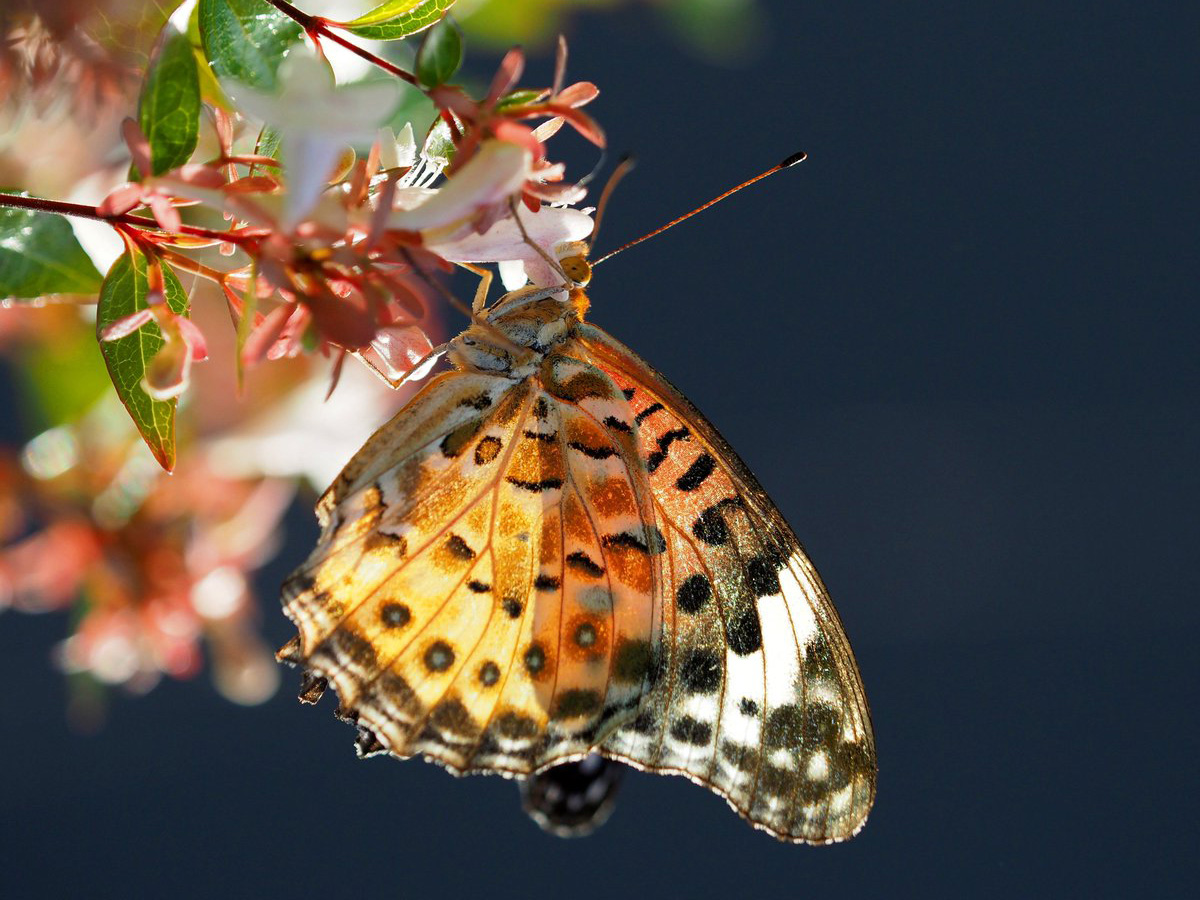Argyreus hyperbius: (261, 142, 893, 861)
butterfly: (263, 144, 895, 863)
